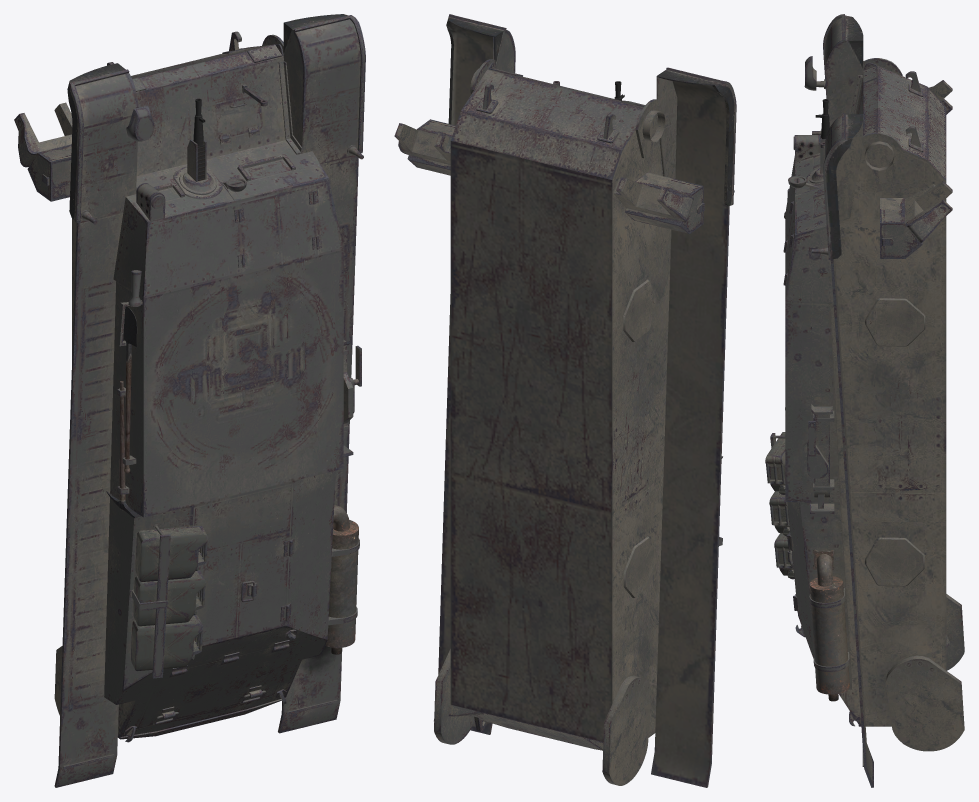
Rendered from Hull.glb.
The picture shows the model from 3 angles, left to right: view 1: azimuth 30°, elevation 25°; view 2: azimuth 150°, elevation 25°; view 3: azimuth 270°, elevation 25°; orthographic projection. The views are drawn at different scales.
Visible parts, largest first — view 1: set_0_group_0; view 2: set_0_group_0; view 3: set_0_group_0.
Part boxes in pixels (left/top/right/bottom): set_0_group_0: left=14, top=14, right=365, bottom=787; set_0_group_0: left=394, top=14, right=736, bottom=787; set_0_group_0: left=765, top=14, right=964, bottom=787.
Bounding box in the file's own units: 2.11 × 4.9 × 1.36.
1 material, 1 textured.
